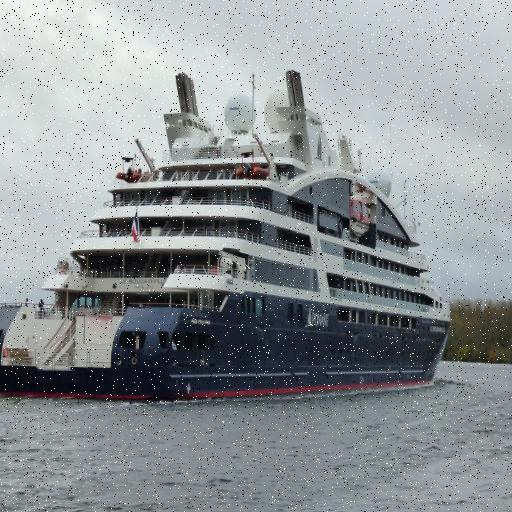cruises: (1, 68, 455, 406)
